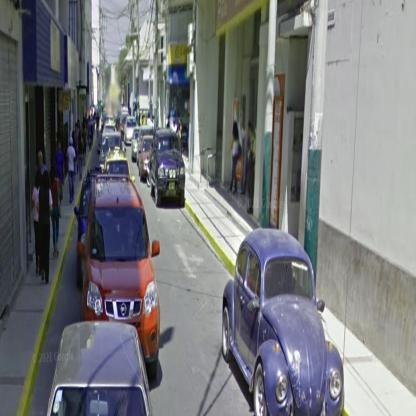Peaton: (38, 172, 53, 282), (229, 122, 241, 195), (55, 142, 66, 208), (67, 137, 78, 202)
Pista: (28, 118, 329, 412)
Vehiculo: (223, 226, 347, 416), (78, 178, 161, 381), (149, 130, 187, 203)
